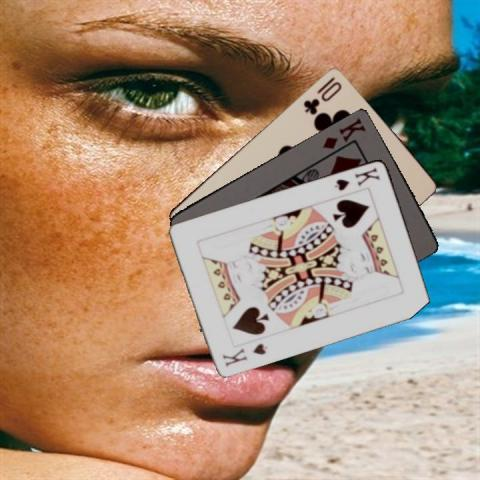10c: (300, 73, 343, 116)
Kd: (319, 114, 368, 150)
Ks: (219, 339, 268, 368), (331, 165, 381, 192)
